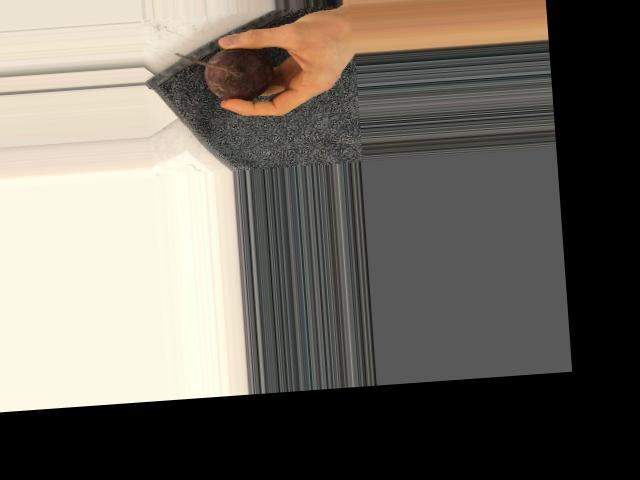beet: (174, 45, 274, 105)
